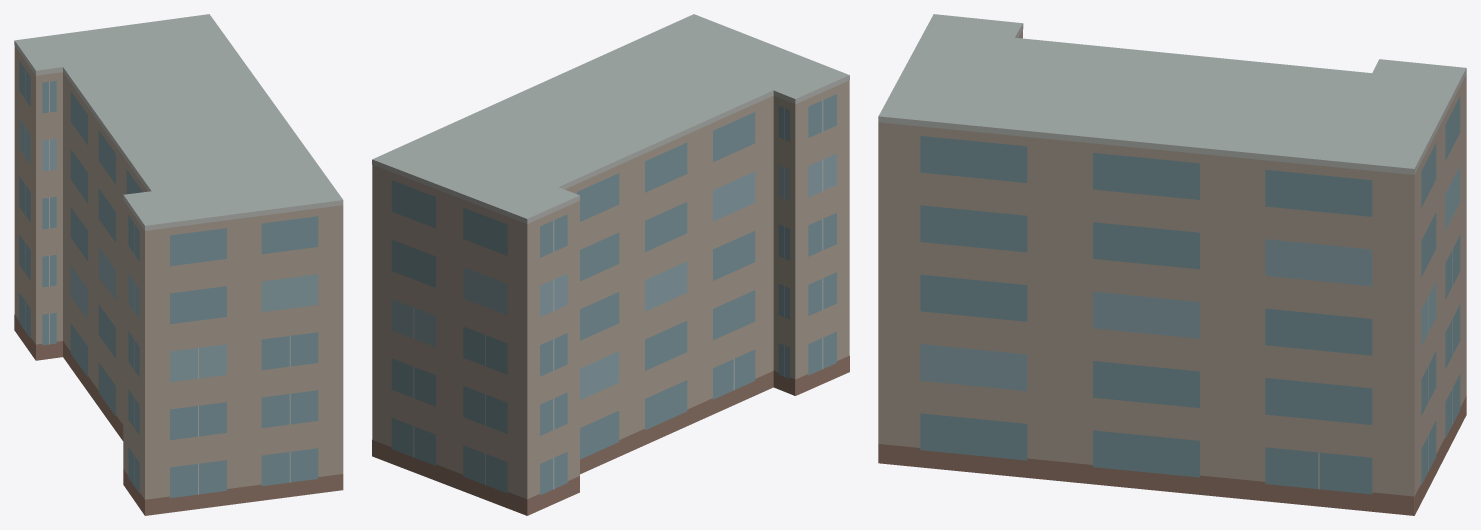
File: survey-upis-32704101.glb
3 renders of one model, left to right at view 1: azimuth 30°, elevation 25°; view 2: azimuth 150°, elevation 25°; view 3: azimuth 270°, elevation 25°, orthographic. The views are drawn at different scales.
Visible parts, largest first — view 1: survey-upis-32704101.tmp; view 2: survey-upis-32704101.tmp; view 3: survey-upis-32704101.tmp.
Boxes of the visible parts, <box> form: survey-upis-32704101.tmp: <box>14,14,343,515</box>; survey-upis-32704101.tmp: <box>372,14,849,515</box>; survey-upis-32704101.tmp: <box>878,14,1466,515</box>.
Bounding box in the file's own units: 13.52 × 14.1 × 21.68.
